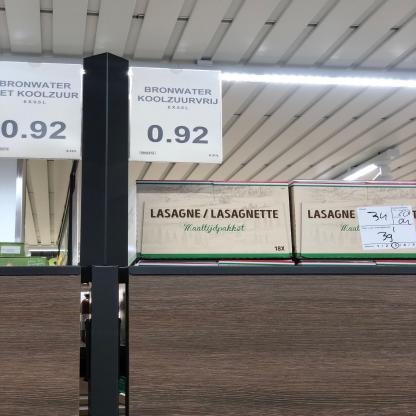prtg: (130, 68, 223, 166), (1, 62, 83, 160)
